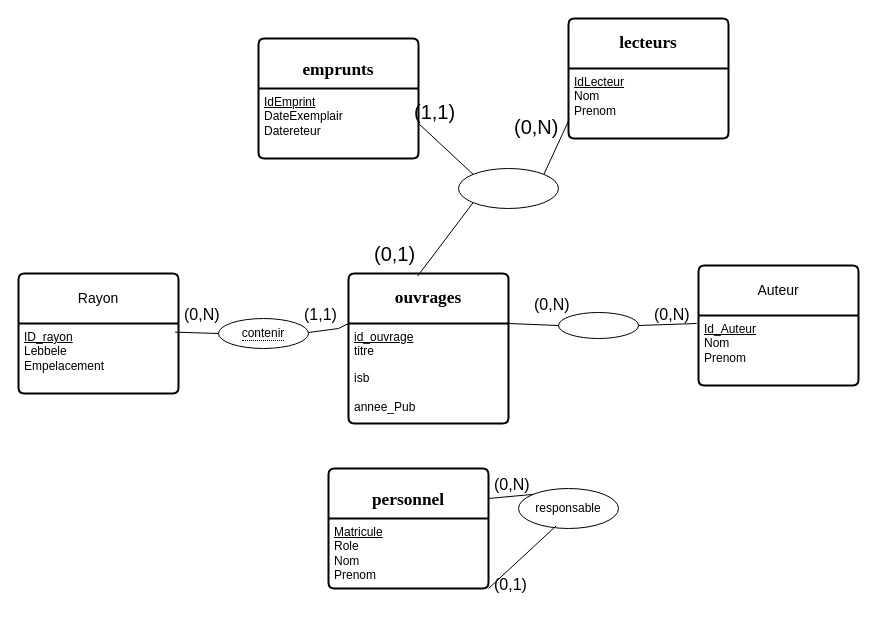
This 876x628 diagram has some shape labels left out. Here are the shapes that lost their labels. From the top down, the centre of each, then its label:
the point at 508,188: Effectu
the point at 598,325: Ecrire
